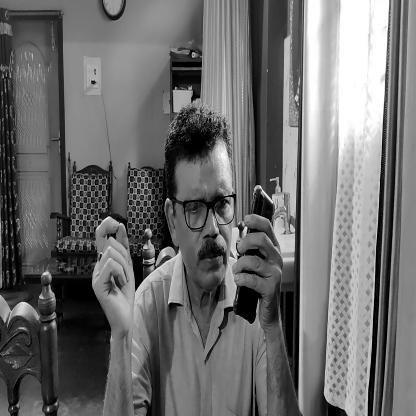Distracted: (162, 93, 239, 297)
